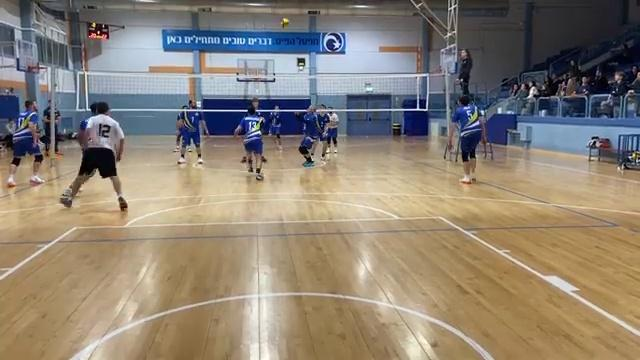ball: (281, 16, 291, 30)
